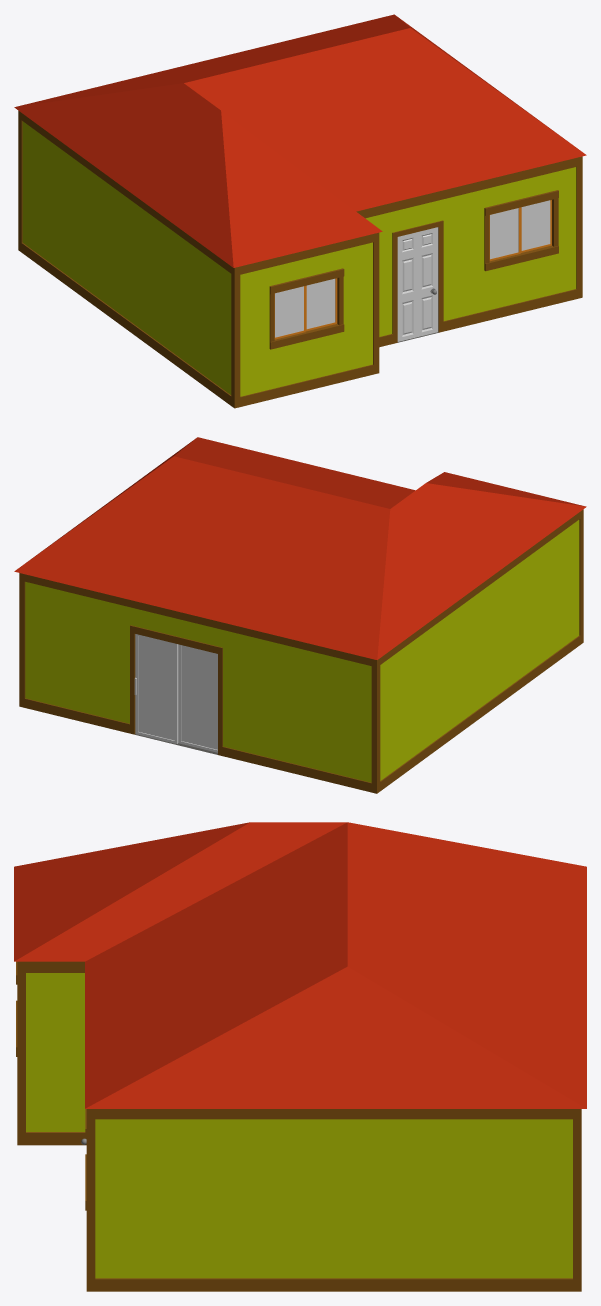
File: house_1.glb
3 views of the same model, one above another, from view 1: azimuth 30°, elevation 25°; view 2: azimuth 150°, elevation 25°; view 3: azimuth 270°, elevation 25° (orthographic). The views are drawn at different scales.
Parts seen in each view (by area): view 1: Vert, Cube, Vert.004, Vert.003; view 2: Vert, Vert.002; view 3: Vert.
Boxes of the visible parts, x1=… form: Vert: x1=14, y1=14, x2=586, y2=408; Cube: x1=397, y1=227, x2=438, y2=341; Vert.004: x1=305, y1=278, x2=337, y2=331; Vert.003: x1=520, y1=200, x2=551, y2=252; Vert: x1=14, y1=437, x2=586, y2=793; Vert.002: x1=134, y1=634, x2=178, y2=743; Vert: x1=14, y1=822, x2=586, y2=1291.
Size of the model in its own units: 1.77 by 0.9532 by 1.77.
